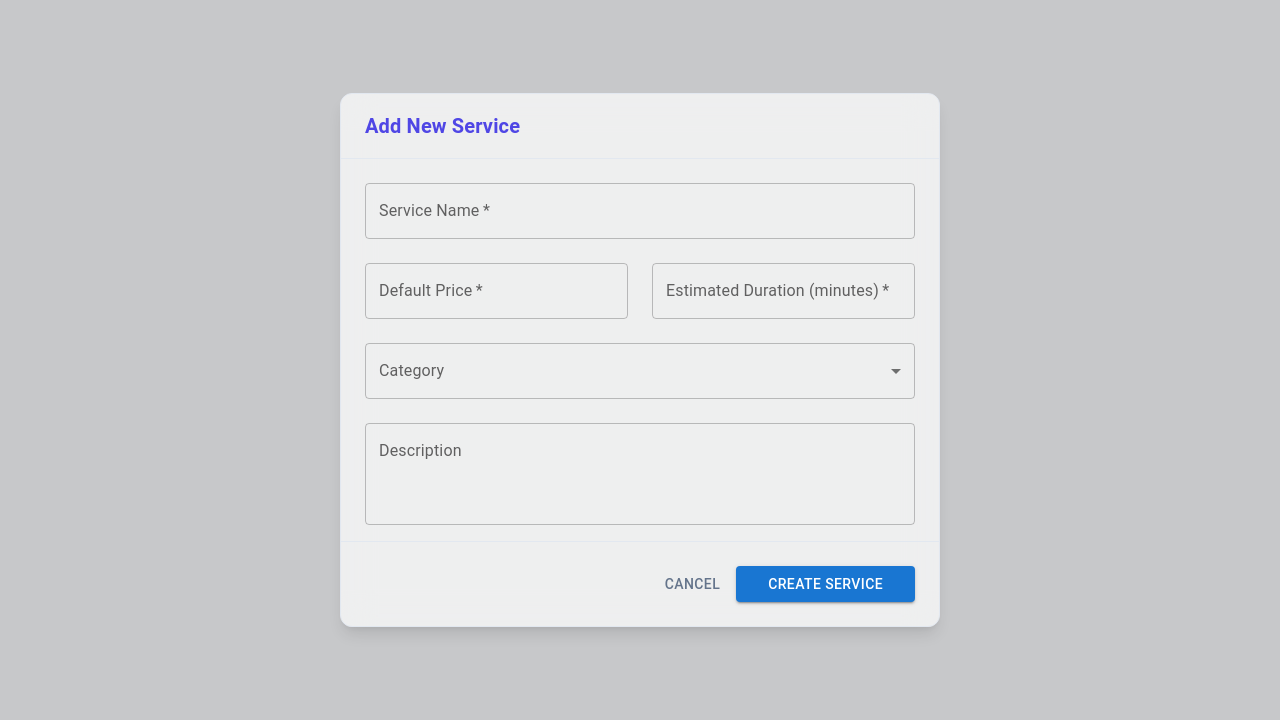
Test: ServiceDialog › validates price correctly and prevents submission if invalid
This screenshot has width=1280, height=720.
// Fill in valid name
Type "Haircut" into the field labelled "Service Name *" at (640, 211), box [365,183,915,239]
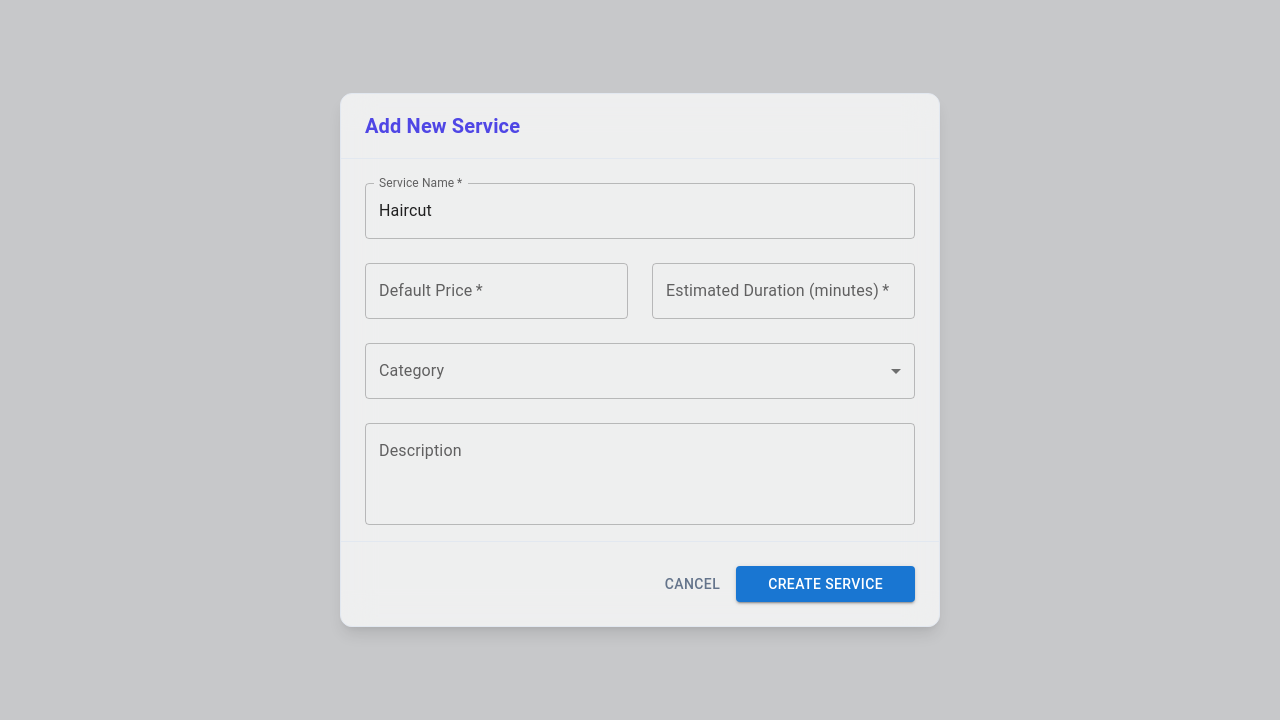
// Fill in invalid price (negative)
Type "-50" into the number field labelled "Default Price *" at (496, 291), box [365,263,628,319]
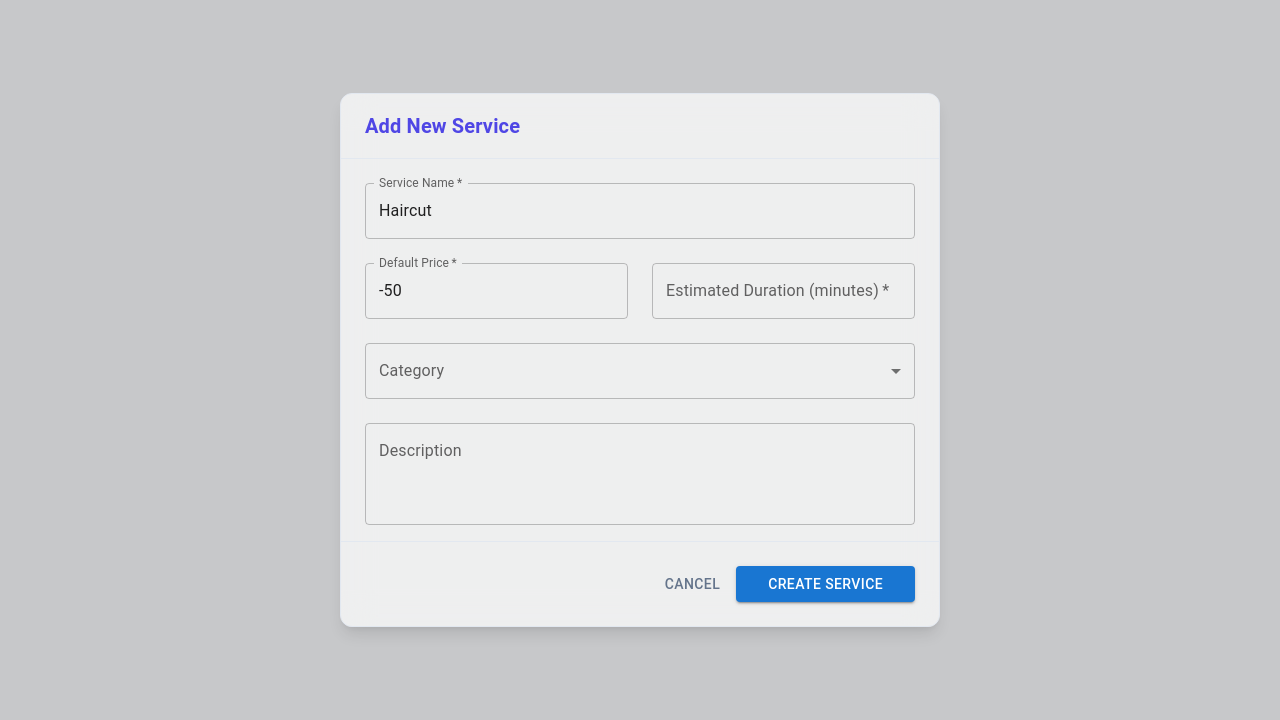
Type "30" into the number field labelled "Estimated Duration (minutes) *" at (784, 291), box [652,263,915,319]
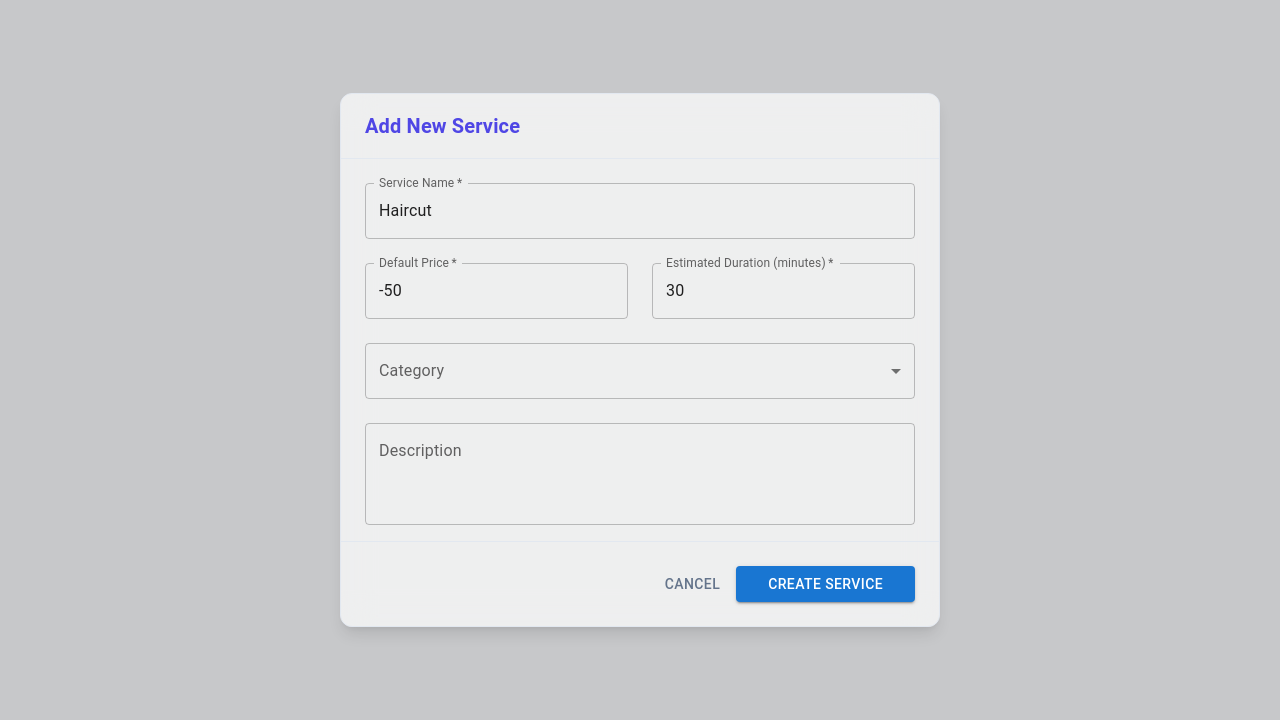
// Submit the form directly
Submit the form named "Create Service", box [341,158,939,626]
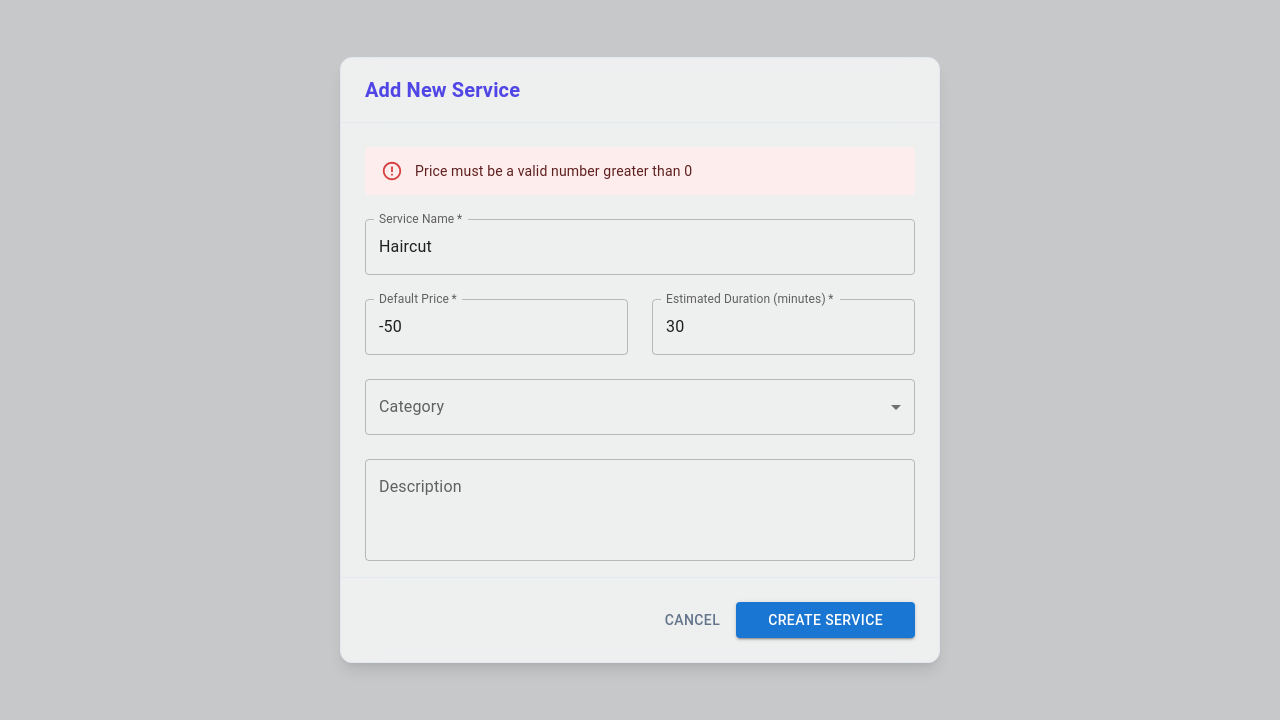
Now the text "Price must be a valid number greater than 0" is shown, box [415,163,692,179]
